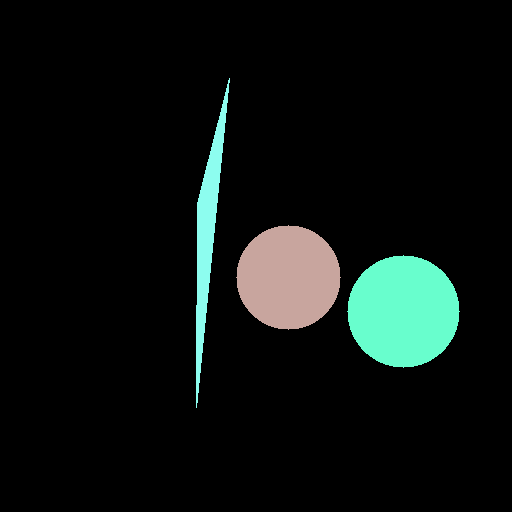circle: (347, 255, 459, 367), (236, 225, 340, 329)
triangle: (196, 78, 229, 407)
